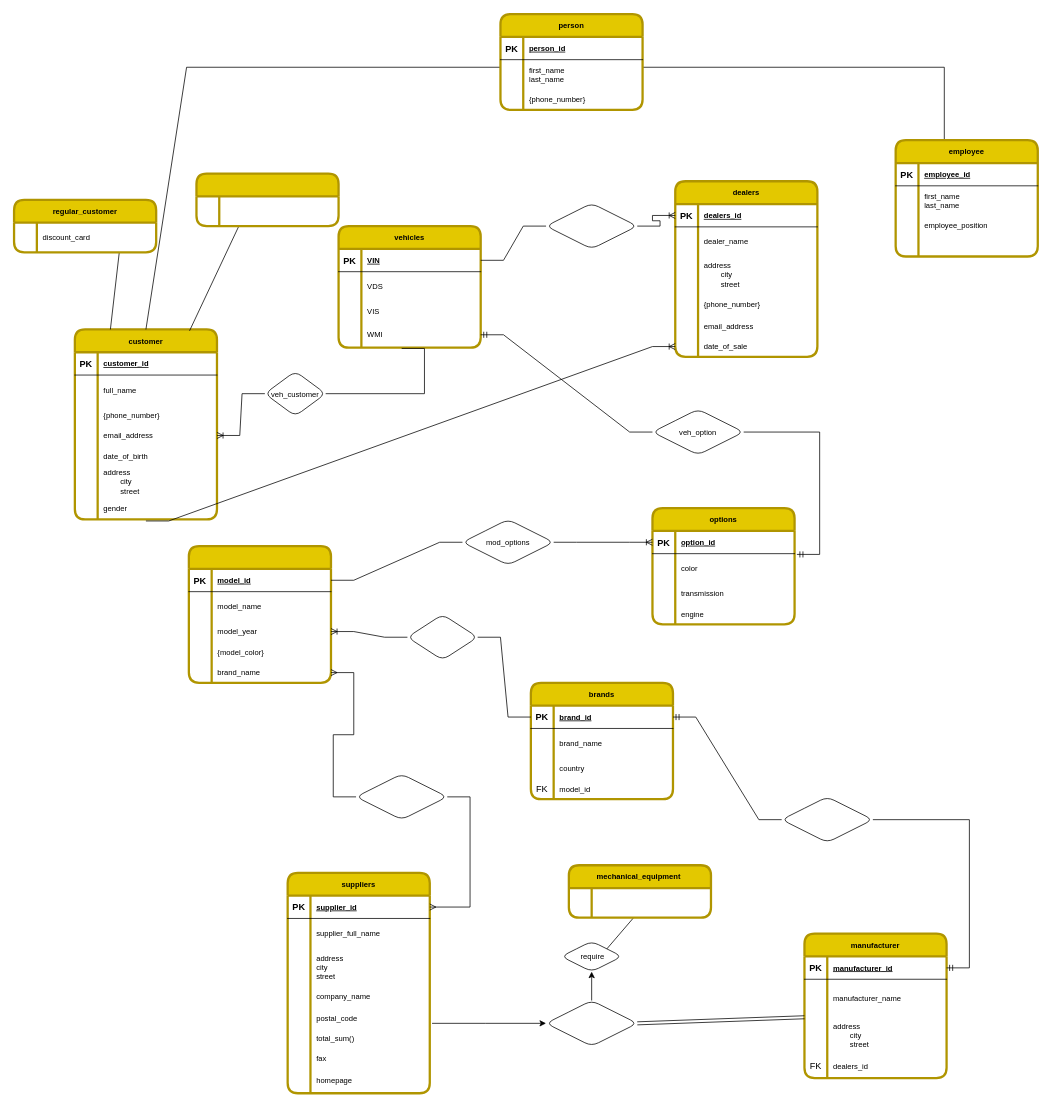
Some shapes in this 1052 by 1107 pixel diagram are drawn without their labels. The box of each missing label's shape, as (x1, y1, x2, y2) in pixels:
brand_manu: (781, 796, 873, 842)
brand_model: (407, 614, 478, 660)
model_sup: (355, 773, 447, 820)
models: (187, 545, 332, 684)
new_customer: (195, 172, 339, 227)
veh_deal: (545, 203, 637, 249)
works_for: (545, 1000, 637, 1046)
